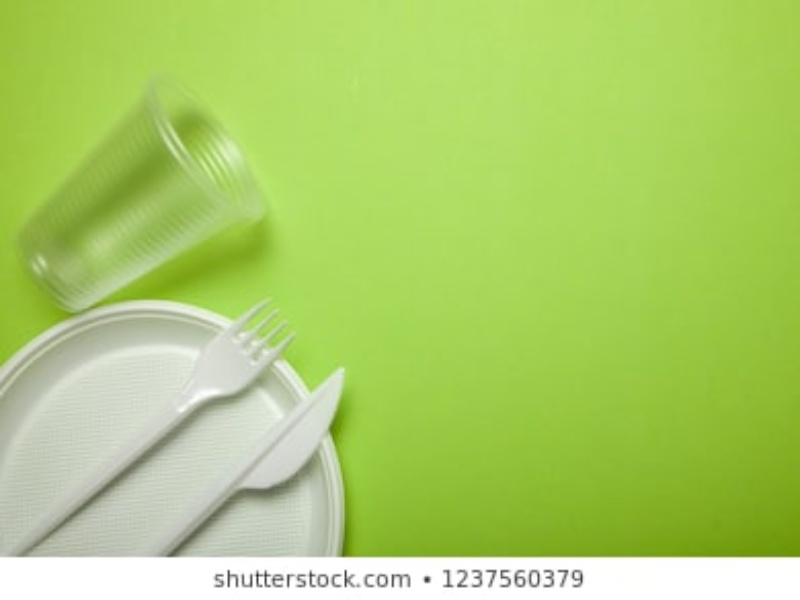plastic-cup: (16, 75, 267, 310)
plastic-plate: (5, 315, 349, 556)
plastic-silverware: (5, 300, 299, 550), (152, 365, 347, 552)
